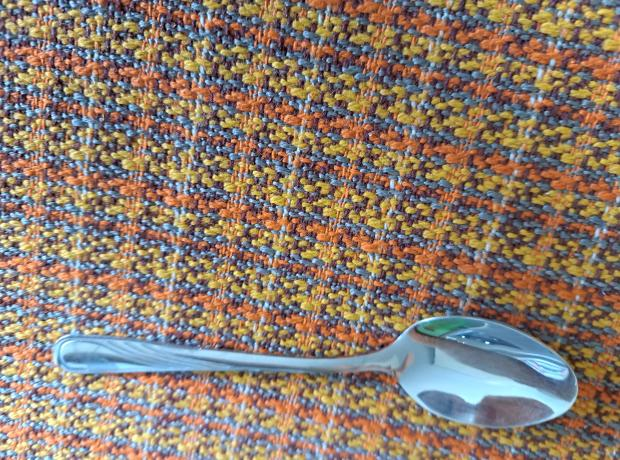metal: (49, 313, 584, 458)
